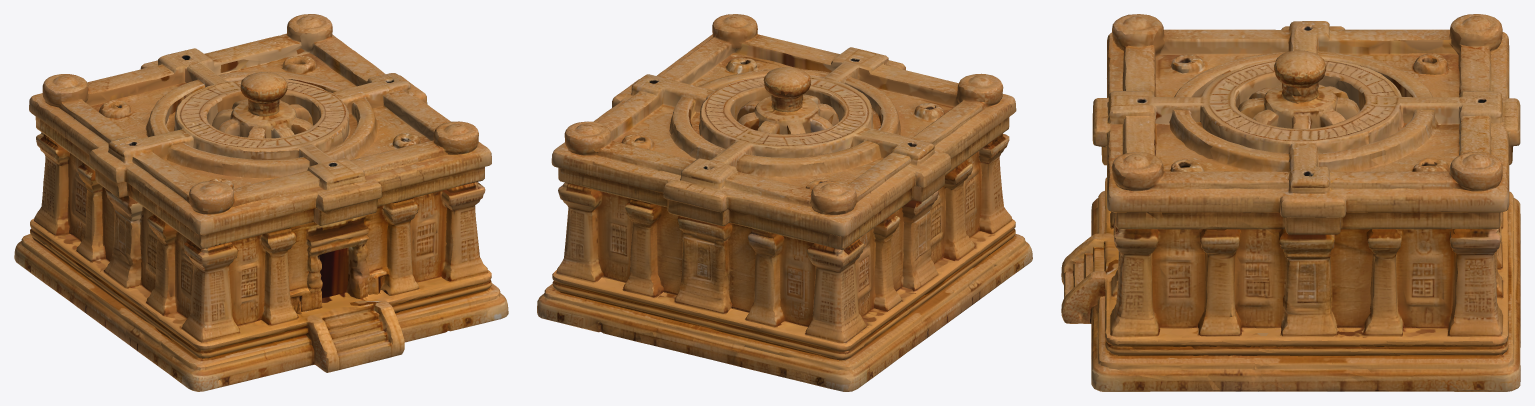
Rendered from ancient-stone-puzzle-mechanism.glb.
3 renders of one model, left to right at view 1: azimuth 30°, elevation 25°; view 2: azimuth 150°, elevation 25°; view 3: azimuth 270°, elevation 25°, orthographic. The views are drawn at different scales.
Parts seen in each view (by area): view 1: textured_mesh; view 2: textured_mesh; view 3: textured_mesh.
Part boxes in pixels (x1,y1,x2,y2): textured_mesh: (14, 14, 508, 391); textured_mesh: (537, 14, 1032, 391); textured_mesh: (1061, 14, 1520, 391).
Size of the model in its own units: 1.85 by 1.19 by 1.99.
1 material, 1 textured.
